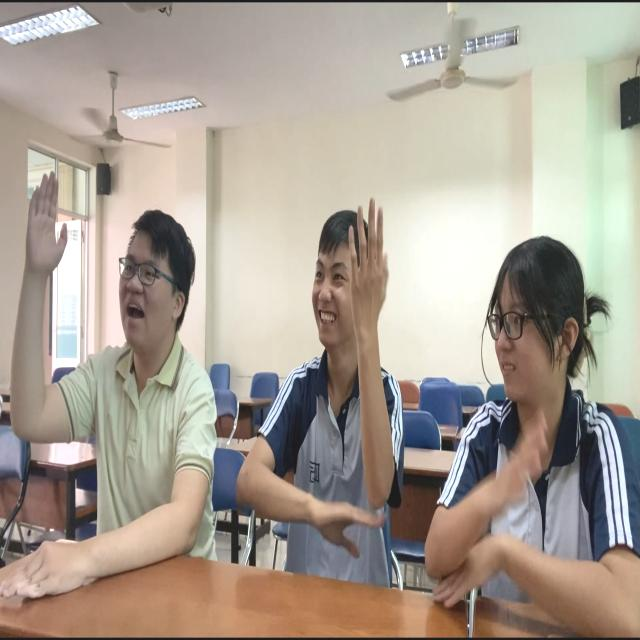raise_hand: (1, 120, 237, 640), (413, 155, 640, 640)
